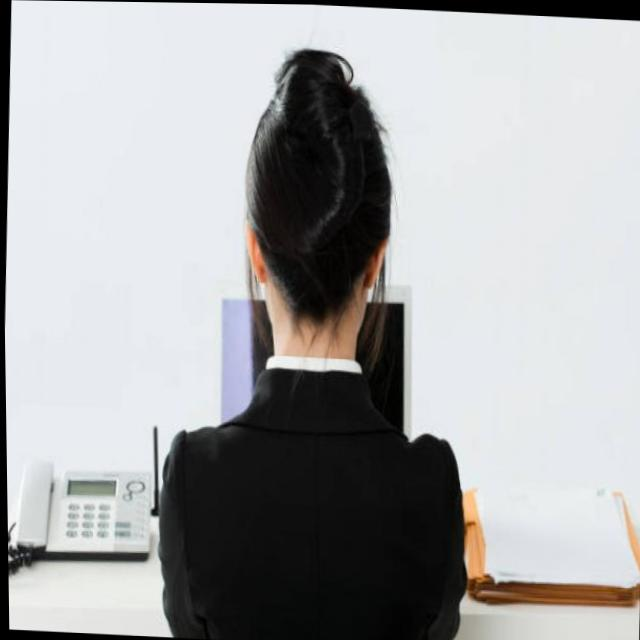no helmet: (229, 33, 408, 369)
